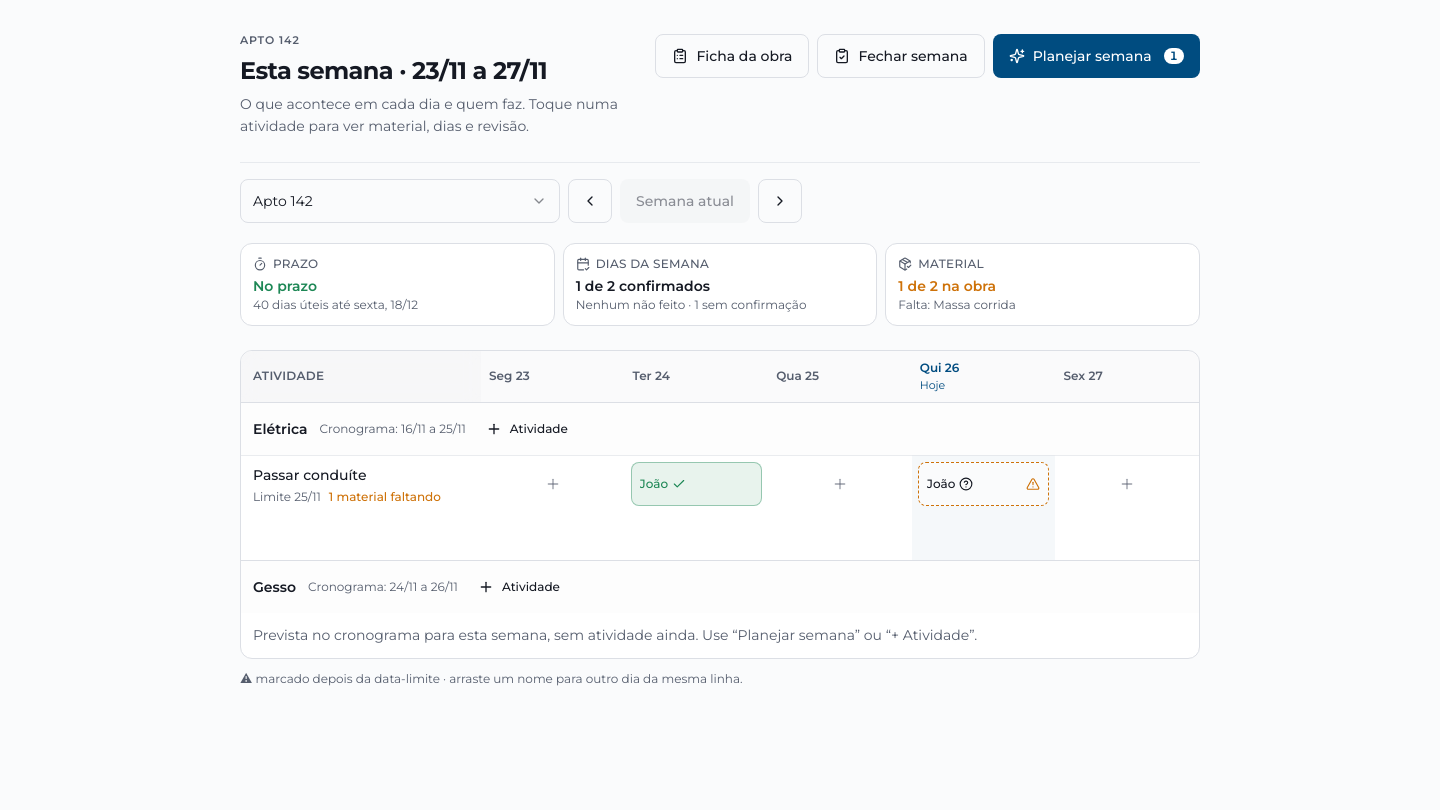
Scenario: Tela Semana › planejar semana: etapa do cronograma vira atividade, exige quem faz e grava os dias
Later steps or results of the test are not shown.
Click the button "Planejar semana 1" at point(1096, 56), box [993,34,1200,78]
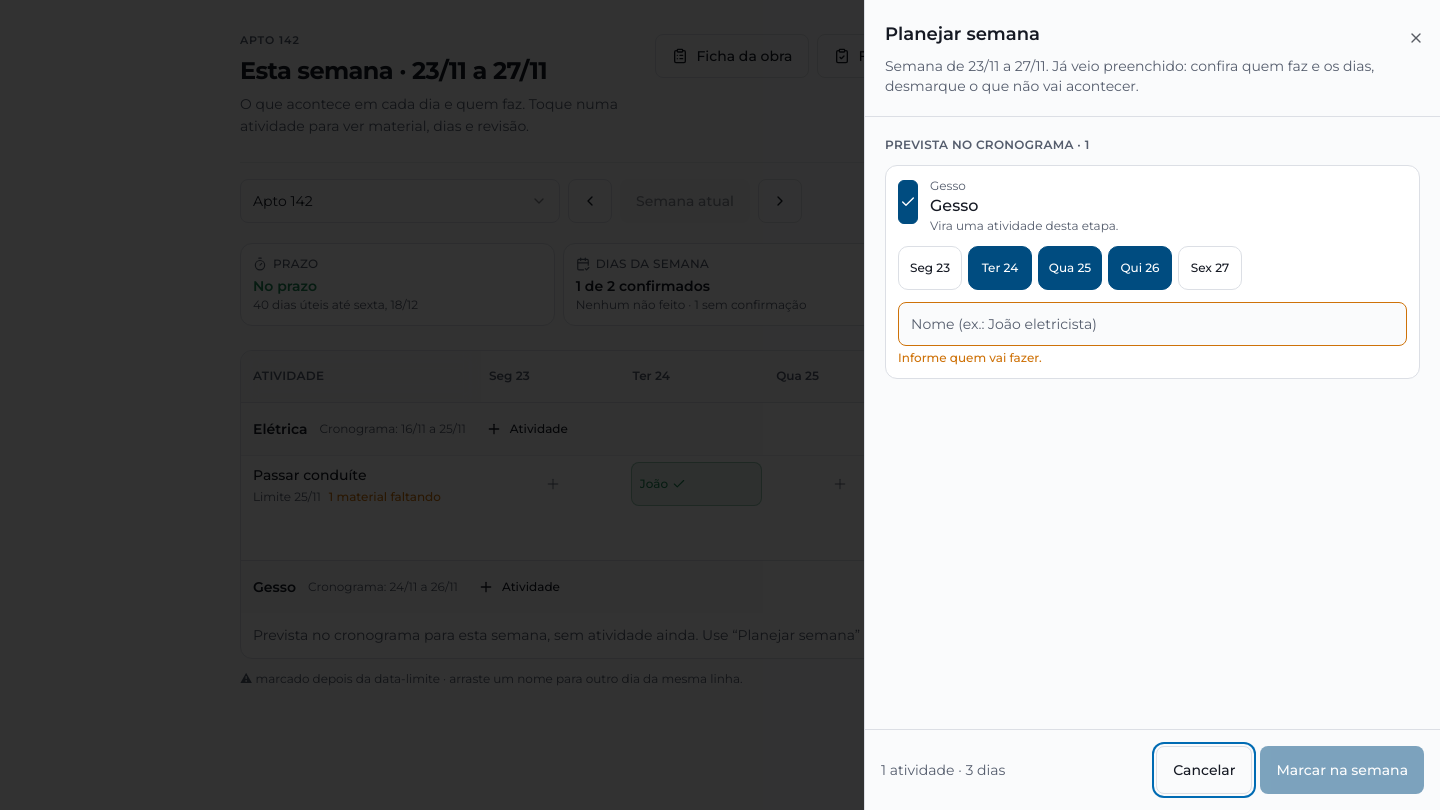
Expected: the heading "Prevista no cronograma · 1" is shown, [885,137,1090,152]
Expected: the button "Marcar na semana" is disabled, [1260,746,1424,794]
Expected: the text "Informe quem vai fazer." is shown, [898,350,1042,365]
Type "Equipe Gesso" into the field named "Quem faz Gesso" at point(1152, 324), box [898,302,1407,346]
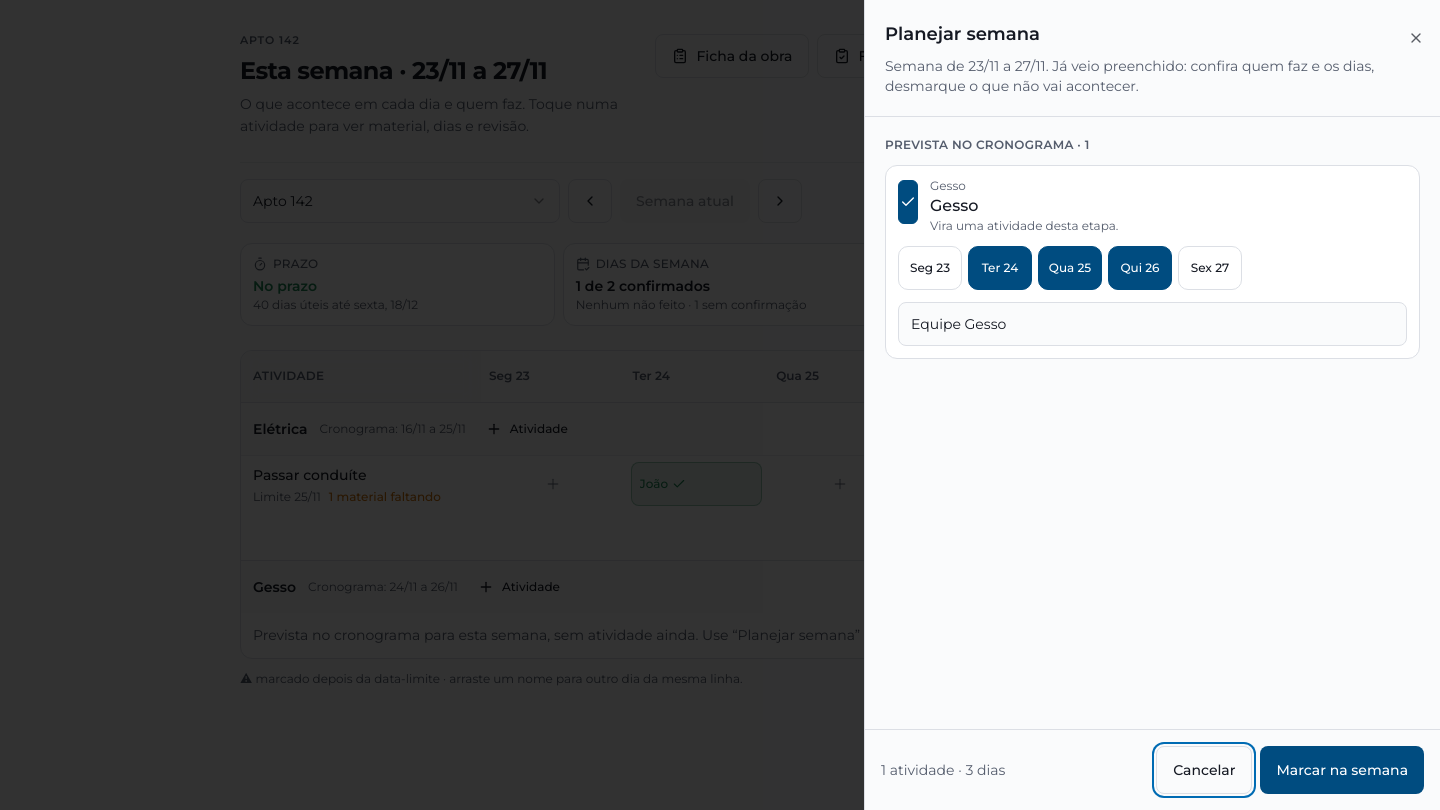
Expected: the button "Marcar na semana" is enabled, [1260,746,1424,794]
